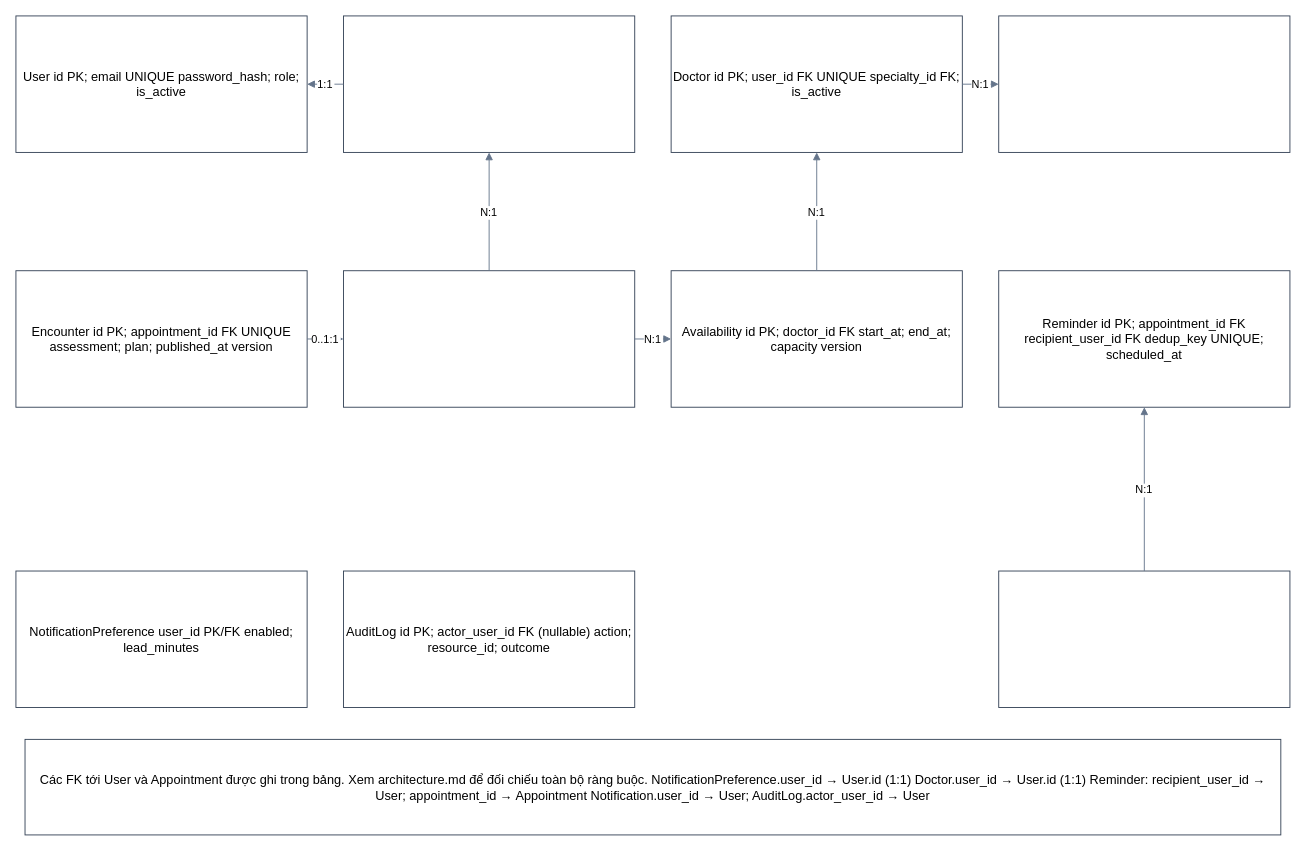
Image size: 1306x851. Some labels were removed from this diagram. The shapes that lost their labels are listed below. From the top down, each one's centre as x and y in pixels, then its label:
the point at 489,83: Patient id PK; user_id FK UNIQUE full_name; birth_date; phone
the point at 1144,83: Specialty id PK; name; is_active
the point at 489,338: Appointment id PK; code UNIQUE patient_id FK; availability_id FK status; version
the point at 1144,639: Notification id PK; reminder_id FK; user_id FK summary; read_at
